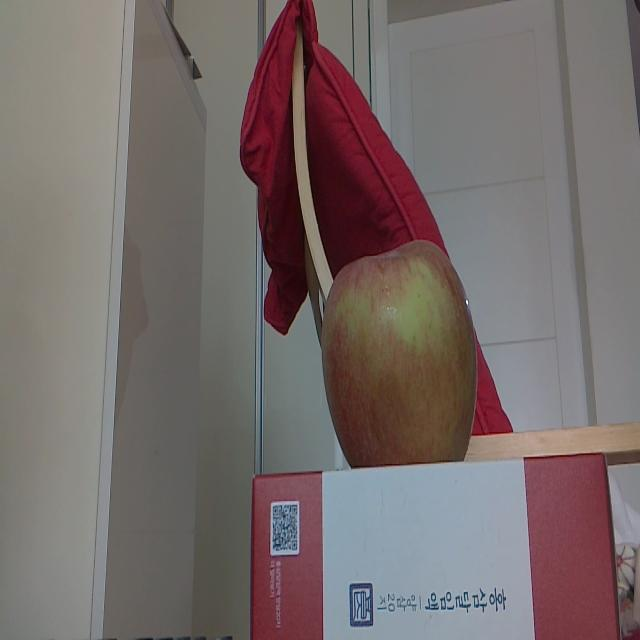apple: (319, 237, 477, 471)
